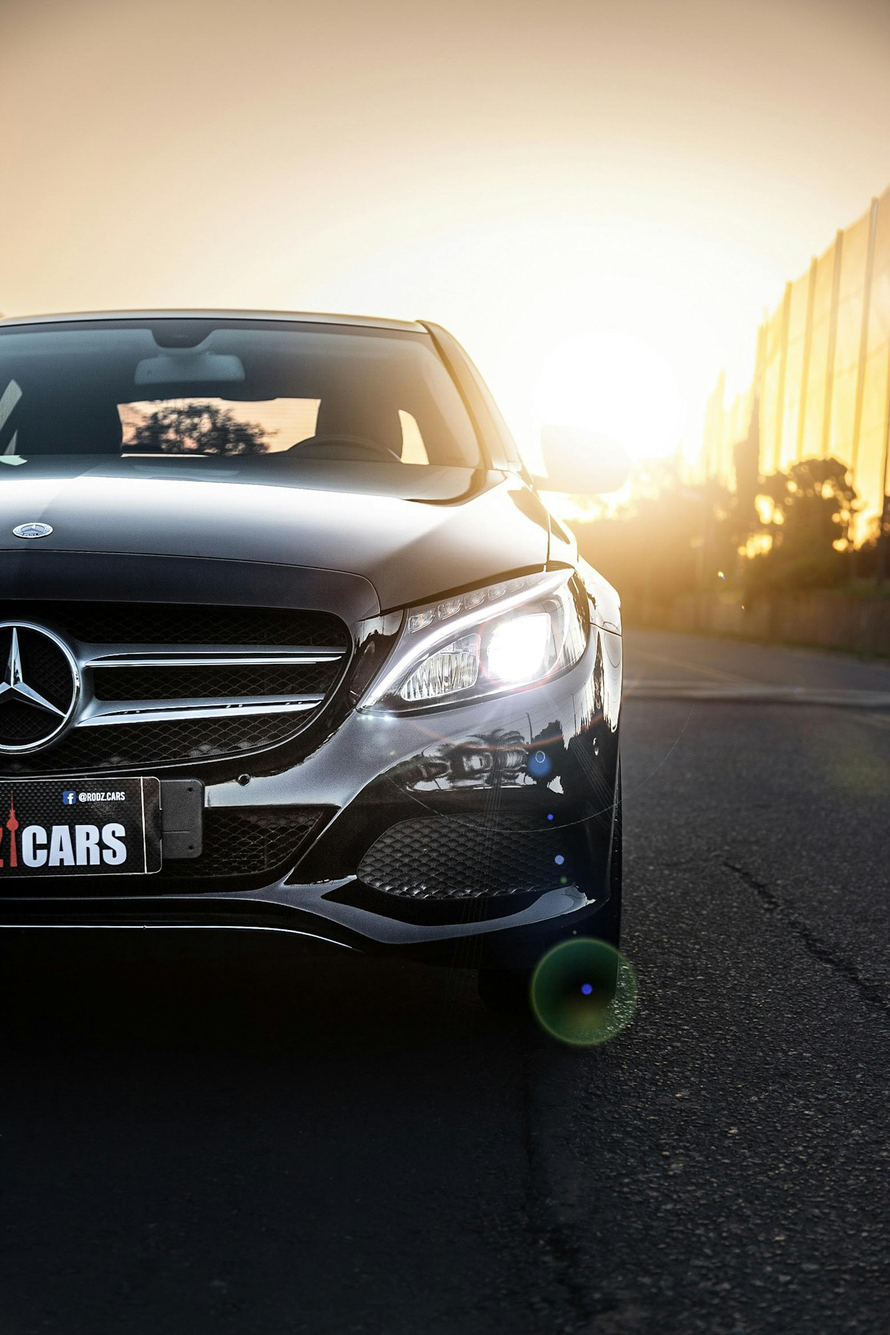other: (0, 298, 635, 1043)
